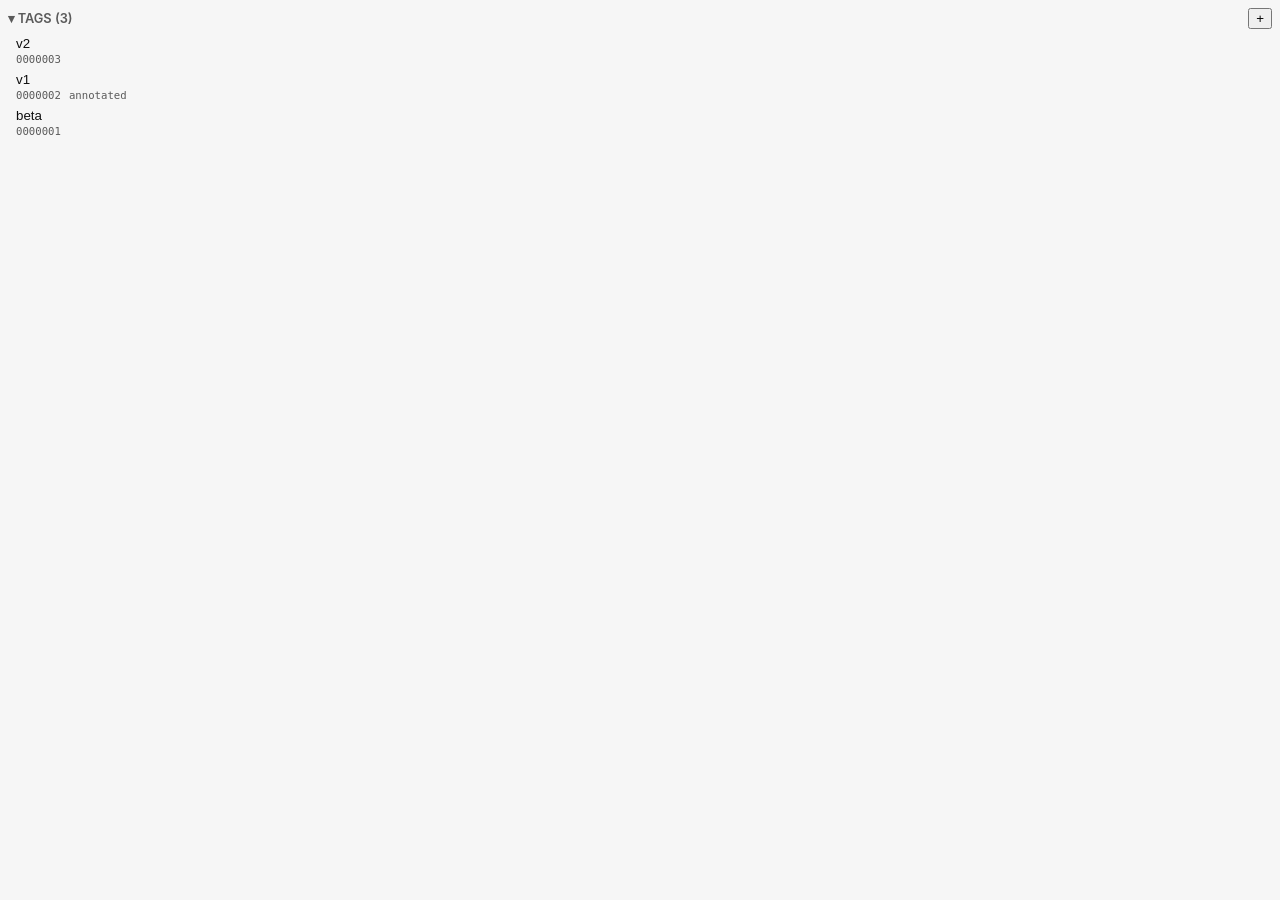
TagsPanel + button › closes the dialog on Cancel and returns focus to the heading when the opener is disabled
expect the list named "Tag list" is shown: met, box 0,33 -> 1279,149
Click the button named "Create tag…": (1260, 18) 1248,8 -> 1272,29
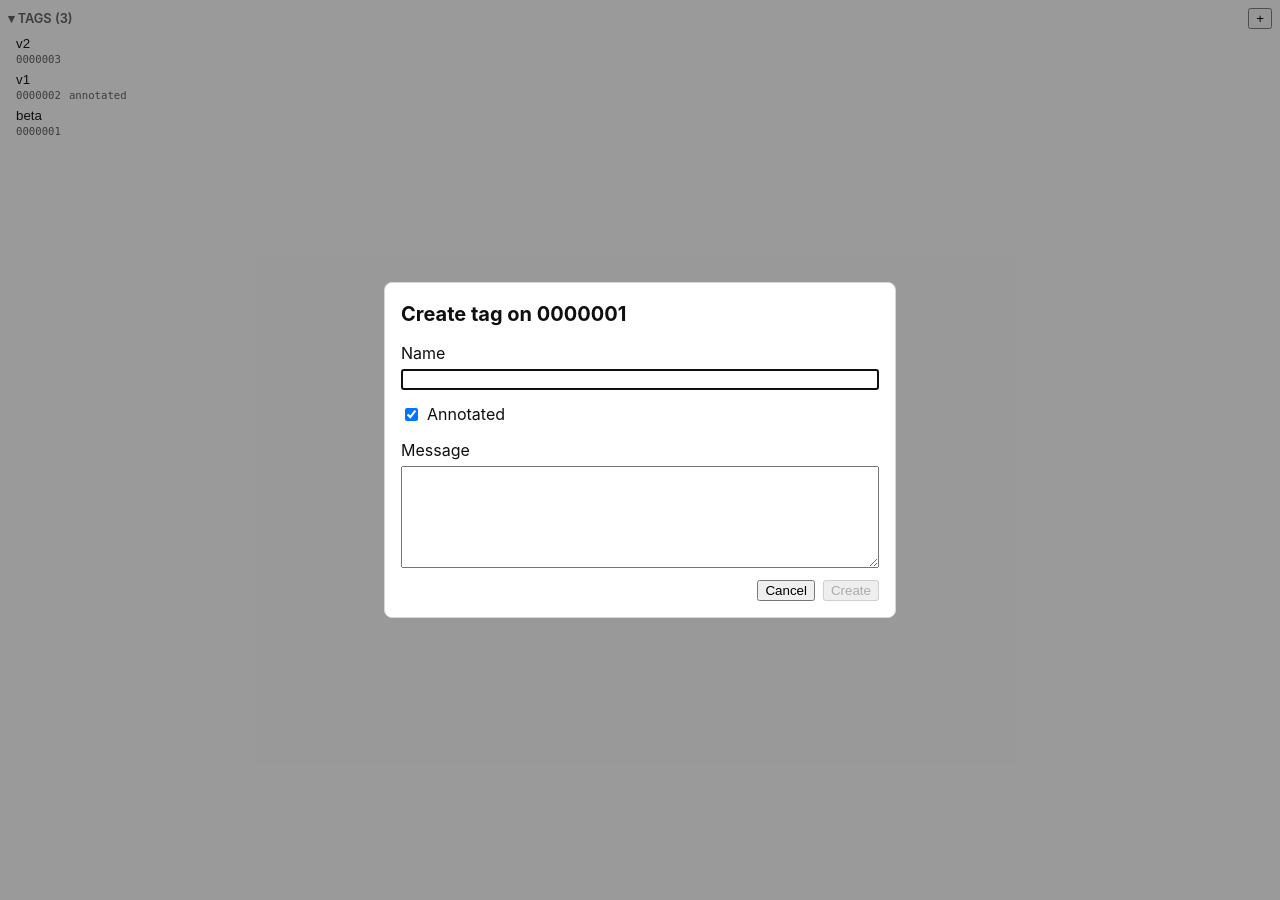
Click the button "Cancel": (786, 590) 758,580 -> 815,601
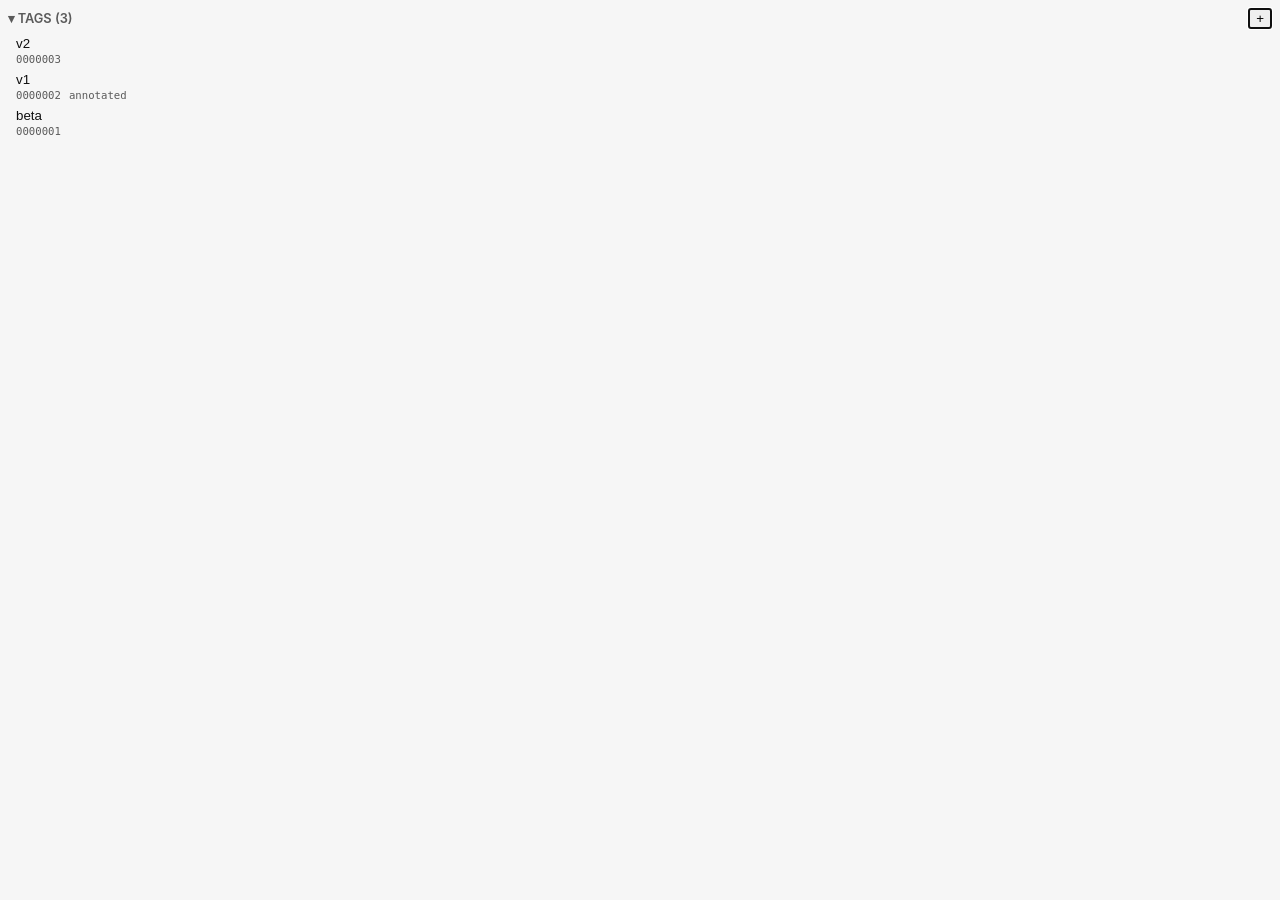
expect the dialog is gone: met
